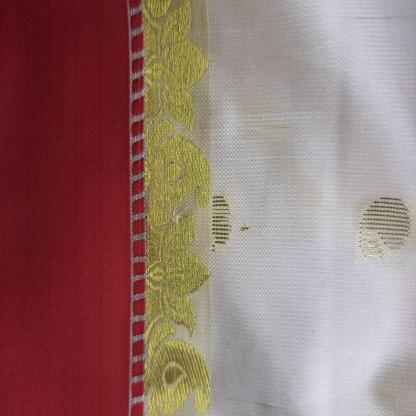spot: (269, 119, 293, 134)
